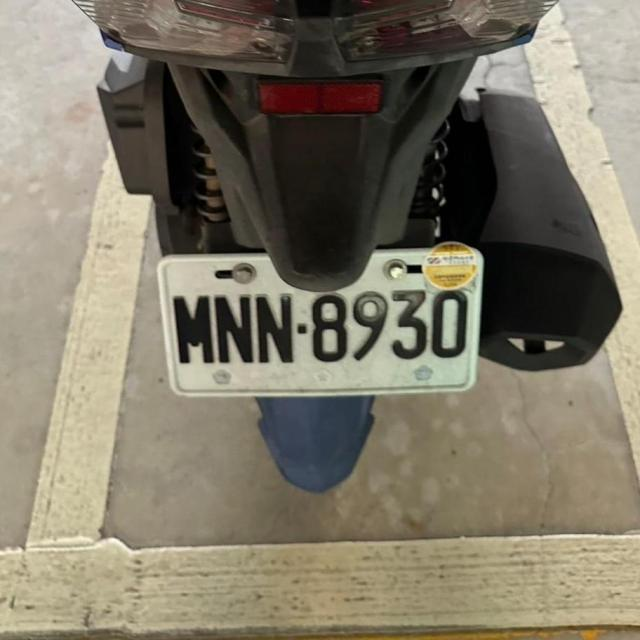W: (148, 232, 495, 410)
